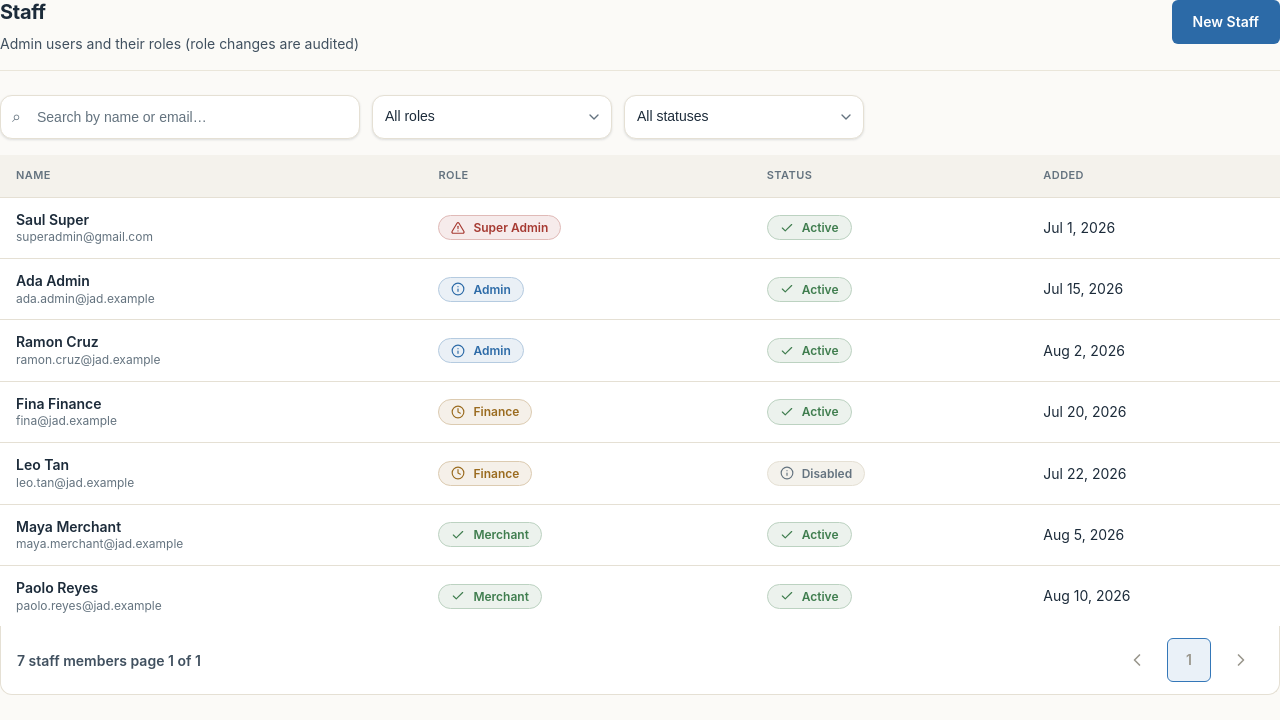
StaffPage › opens the create dialog from the header action
Expected: the text "Saul Super" is shown, [16,211,89,228]
Click the button "New Staff". click: (1226, 22)
box: [1172,0,1279,44]
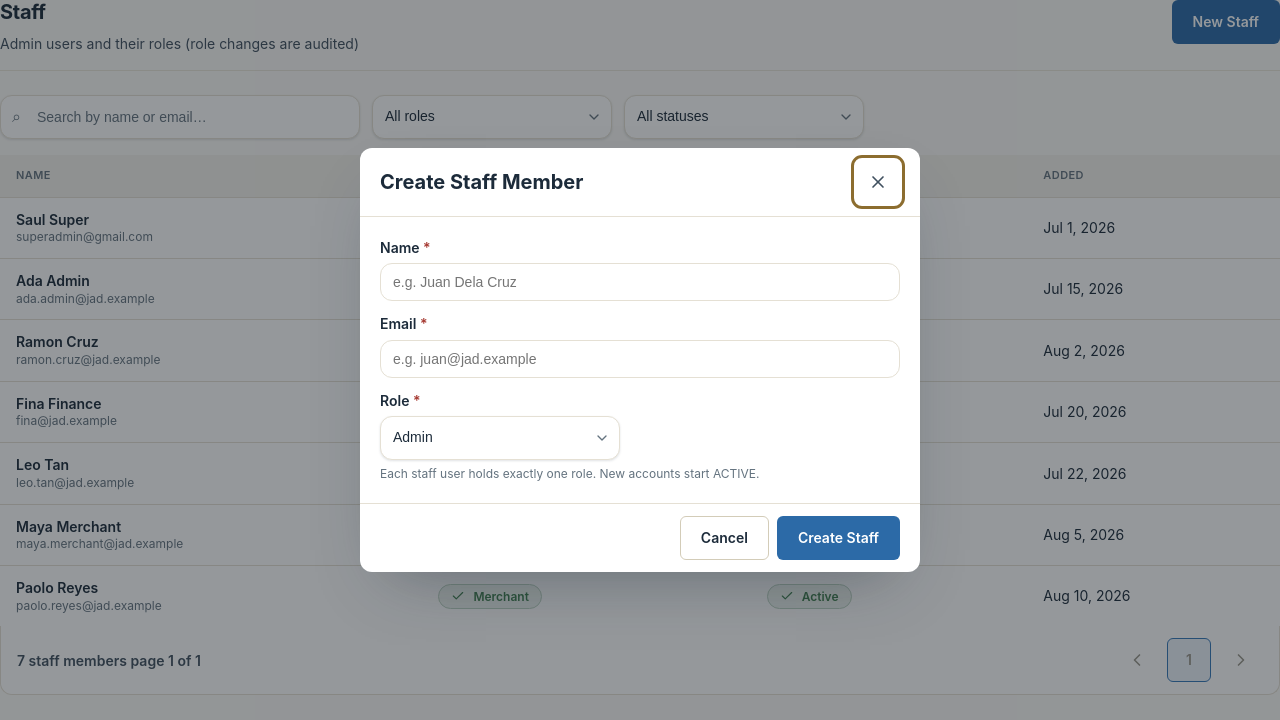
Result: the heading "Create Staff Member" is shown at [380,166,583,198]
